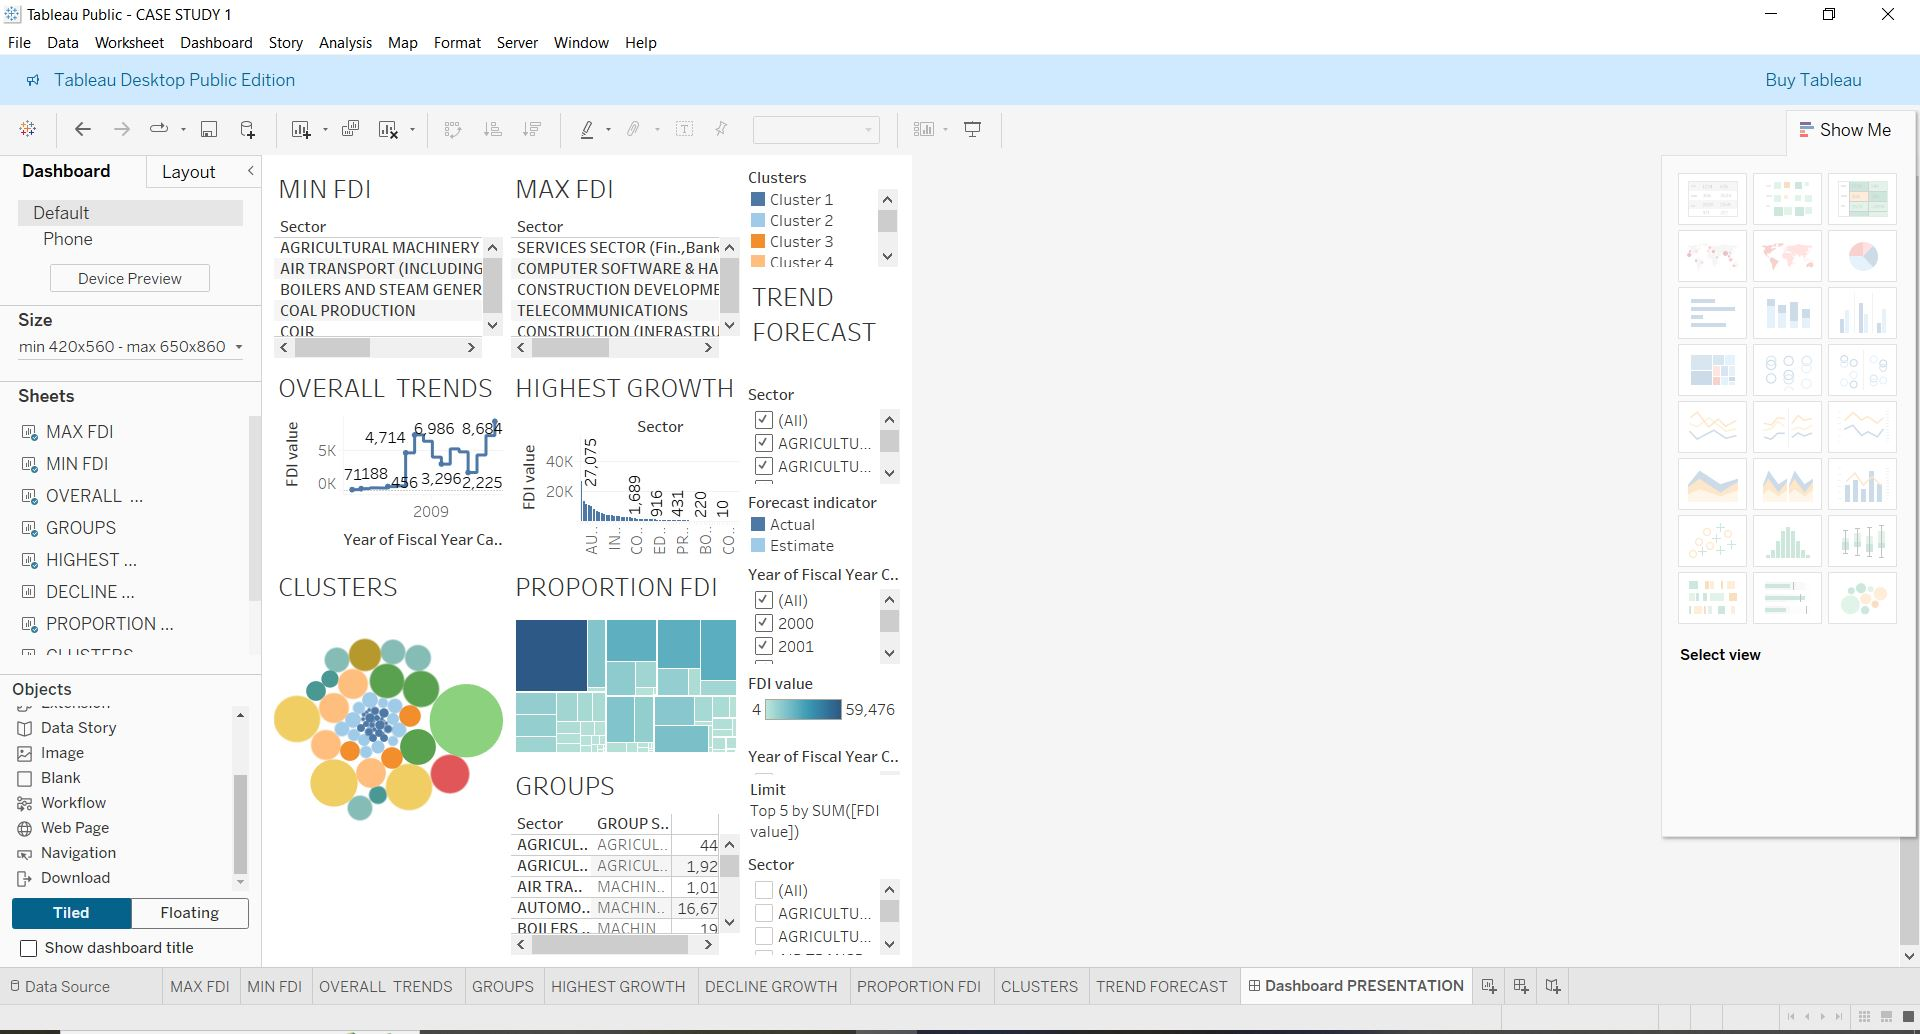

The dashboard page shown, as its layout file describes it:
{"tool":"tableau","page":{"name":"Dashboard PRESENTATION","canvas":[650,860],"ordinal":0},"visuals":[{"type":"worksheet","title":"MIN FDI","mark":"Automatic","rows":["Sector"],"box":[8,8.5,237,210.8]},{"type":"worksheet","title":"MAX FDI","mark":"Automatic","rows":["Sector"],"box":[245,8.5,237,210.8]},{"type":"legend","title":"CLUSTERS","param":"[federated.02rh4lb1pif9l513kxzk710dmis7].[none:AdhocCluster:1:ok]","box":[482,8.5,160,114.9]},{"type":"worksheet","title":"TREND FORECAST","mark":"Automatic","rows":["Pivot Field Values"],"cols":["Calculation_1374442374659366912"],"box":[482,123.4,160,114.9]},{"type":"worksheet","title":"DECLINE GROWTH","mark":"Automatic","rows":["Pivot Field Values"],"cols":["Sector"],"box":[8,219.2,237,210.8]},{"type":"worksheet","title":"HIGHEST GROWTH","mark":"Automatic","rows":["Pivot Field Values"],"cols":["Sector"],"box":[245,219.2,237,210.8]},{"type":"filter","title":"TREND FORECAST","param":"[federated.02rh4lb1pif9l513kxzk710dmis7].[none:Sector:nk]","box":[482,238.3,160,114.9]},{"type":"legend","title":"TREND FORECAST","param":"[federated.02rh4lb1pif9l513kxzk710dmis7].[none:Forecast Indicator:nk]","box":[482,353.2,160,76.3]},{"type":"filter","title":"PROPORTION FDI","param":"[federated.02rh4lb1pif9l513kxzk710dmis7].[yr:Calculation_1374442374659366912:ok]","box":[482,429.5,160,114.9]},{"type":"worksheet","title":"CLUSTERS","mark":"Circle","box":[8,430,237,421.5]},{"type":"worksheet","title":"PROPORTION FDI","mark":"Automatic","box":[245,430,237,210.8]},{"type":"legend","title":"PROPORTION FDI","param":"[federated.02rh4lb1pif9l513kxzk710dmis7].[sum:Pivot Field Values:qk]","box":[482,544.4,160,77.3]},{"type":"filter","title":"DECLINE GROWTH","param":"[federated.02rh4lb1pif9l513kxzk710dmis7].[yr:Calculation_1374442374659366912:ok]","box":[482,621.7,160,114.9]},{"type":"worksheet","title":"GROUPS","mark":"Automatic","rows":["Sector"],"box":[245,640.8,237,210.8]},{"type":"filter","title":"HIGHEST GROWTH","param":"[federated.02rh4lb1pif9l513kxzk710dmis7].[yr:Calculation_1374442374659366912:ok]","box":[482,736.6,160,114.9]}]}

Visuals, with their boxes on the page's 650x860 design canvas (x1, y1, x2, y2). These are canvas units, not pixel positions in the 1920x1034 screenshot, which may show the page scaled, cropped or inside an application window:
"MIN FDI" worksheet: x1=8, y1=8, x2=245, y2=219
"MAX FDI" worksheet: x1=245, y1=8, x2=482, y2=219
"CLUSTERS" legend: x1=482, y1=8, x2=642, y2=123
"TREND FORECAST" worksheet: x1=482, y1=123, x2=642, y2=238
"DECLINE GROWTH" worksheet: x1=8, y1=219, x2=245, y2=430
"HIGHEST GROWTH" worksheet: x1=245, y1=219, x2=482, y2=430
"TREND FORECAST" filter: x1=482, y1=238, x2=642, y2=353
"TREND FORECAST" legend: x1=482, y1=353, x2=642, y2=430
"PROPORTION FDI" filter: x1=482, y1=430, x2=642, y2=544
"CLUSTERS" worksheet (Circle marks): x1=8, y1=430, x2=245, y2=852
"PROPORTION FDI" worksheet: x1=245, y1=430, x2=482, y2=641
"PROPORTION FDI" legend: x1=482, y1=544, x2=642, y2=622
"DECLINE GROWTH" filter: x1=482, y1=622, x2=642, y2=737
"GROUPS" worksheet: x1=245, y1=641, x2=482, y2=852
"HIGHEST GROWTH" filter: x1=482, y1=737, x2=642, y2=852
